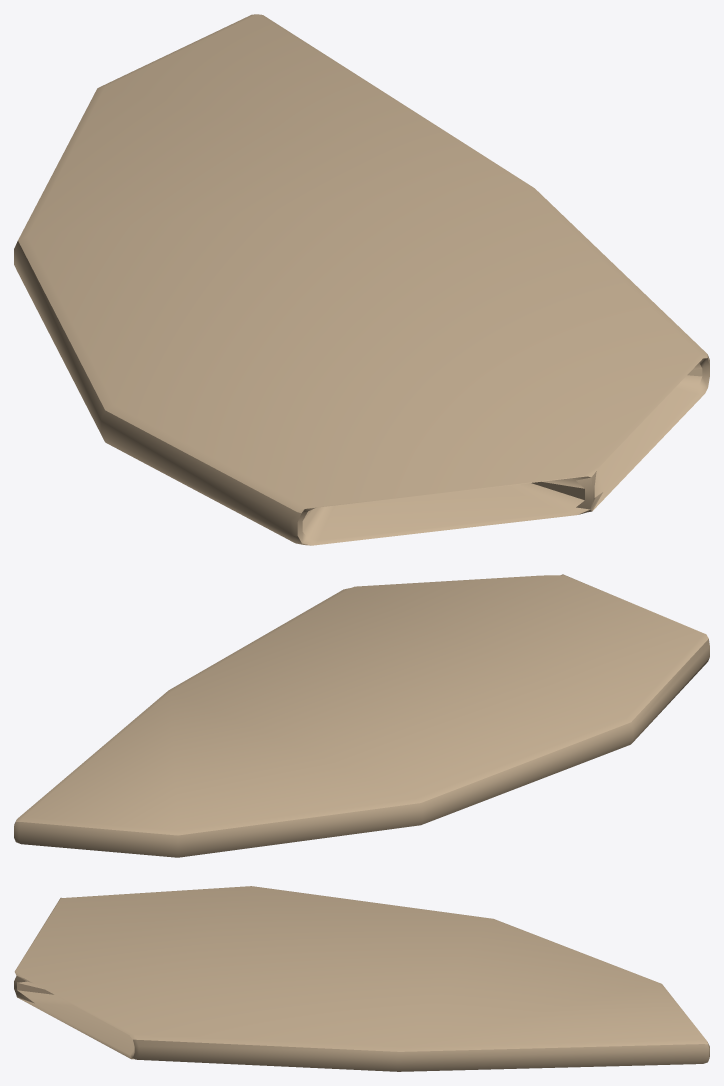
Rendered from fin_l.glb.
3 views of the same model, one above another, from view 1: azimuth 30°, elevation 25°; view 2: azimuth 150°, elevation 25°; view 3: azimuth 270°, elevation 25° (orthographic). The views are drawn at different scales.
Visible parts, largest first — view 1: FinL; view 2: FinL; view 3: FinL.
Boxes of the visible parts, x1,y1,x2,y2 form: FinL: (14,14,709,545); FinL: (14,574,709,857); FinL: (14,886,709,1071).
Size of the model in its own units: 0.82 by 0.055 by 1.44.
